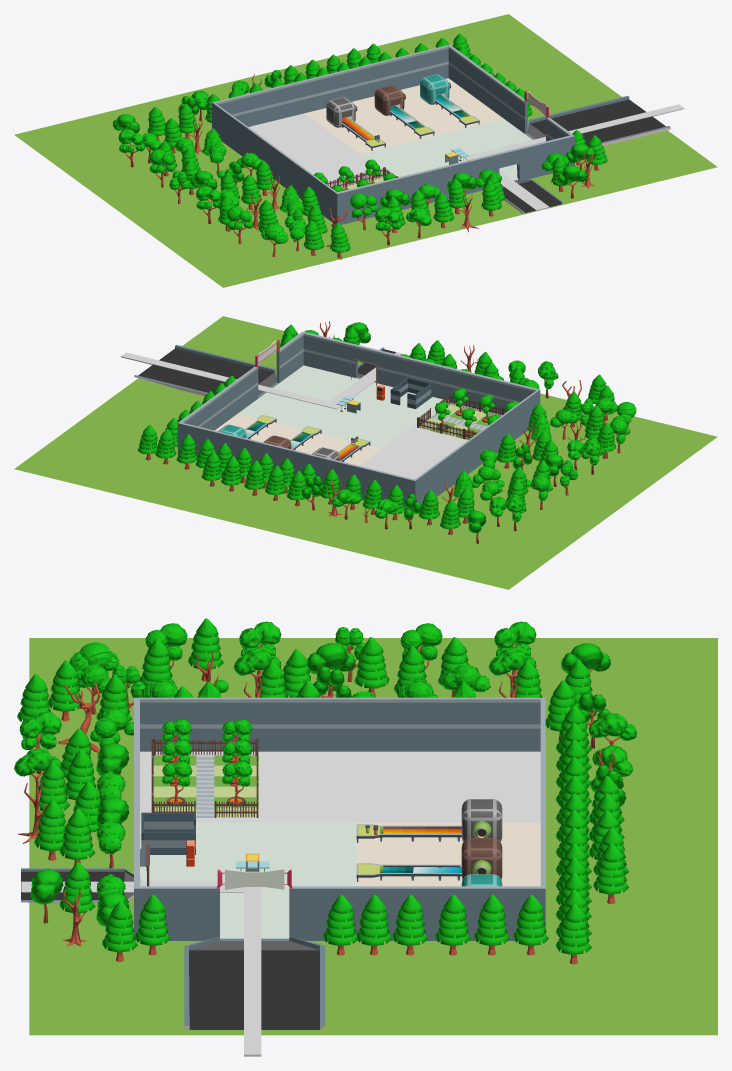
The model's file is Sahne.fbx.
3 views of the same model, one above another, from view 1: azimuth 30°, elevation 25°; view 2: azimuth 150°, elevation 25°; view 3: azimuth 270°, elevation 25° (orthographic). The views are drawn at different scales.
Visible parts, largest first — view 1: BuyukZemin, Zemin, SatisVeMusteriAlani, MakineAlani, YurumeAlani, Makine_2, Makine_3, Makine_1, tree.038, tree.008, tree.026, tree.011 (+14 smaller); view 2: BuyukZemin, Zemin, SatisVeMusteriAlani, MakineAlani, Tarla, YurumeAlani, Ofis, Makine_2, Makine_3, tree.087, tree.084, tree.077 (+9 smaller); view 3: BuyukZemin, Zemin, SatisVeMusteriAlani, MakineAlani, Tarla, YurumeAlani, Makine_2, Makine_1, Ofis, tree.079, tree.088, tree.080 (+52 smaller).
Part boxes in pixels (<box>): BuyukZemin: <box>14,14,717,287</box>; Zemin: <box>212,44,574,224</box>; SatisVeMusteriAlani: <box>360,95,670,213</box>; MakineAlani: <box>304,78,503,154</box>; YurumeAlani: <box>464,104,684,211</box>; Makine_2: <box>374,85,434,138</box>; Makine_3: <box>420,74,479,127</box>; Makine_1: <box>326,97,385,150</box>; tree.038: <box>350,193,377,230</box>; tree.008: <box>226,206,252,244</box>; tree.026: <box>149,149,175,187</box>; tree.011: <box>118,129,144,167</box>; BuyukZemin: <box>14,316,717,589</box>; Zemin: <box>177,331,540,511</box>; SatisVeMusteriAlani: <box>134,345,445,448</box>; MakineAlani: <box>215,413,381,465</box>; Tarla: <box>417,394,506,440</box>; YurumeAlani: <box>121,352,409,409</box>; Ofis: <box>390,377,432,408</box>; Makine_2: <box>263,426,321,449</box>; Makine_3: <box>218,415,276,438</box>; tree.087: <box>155,429,176,464</box>; tree.084: <box>244,460,265,495</box>; tree.077: <box>176,434,197,469</box>; BuyukZemin: <box>29,638,717,1035</box>; Zemin: <box>134,697,545,945</box>; SatisVeMusteriAlani: <box>21,822,356,1029</box>; MakineAlani: <box>356,822,540,886</box>; Tarla: <box>151,738,258,817</box>; YurumeAlani: <box>21,881,261,1056</box>; Makine_2: <box>356,838,502,881</box>; Makine_1: <box>356,799,502,842</box>; Ofis: <box>141,812,195,854</box>; tree.079: <box>392,894,427,955</box>; tree.088: <box>556,903,591,964</box>; tree.080: <box>435,894,470,955</box>.
Bounding box in the file's own units: 13461 × 1177 × 9475.
